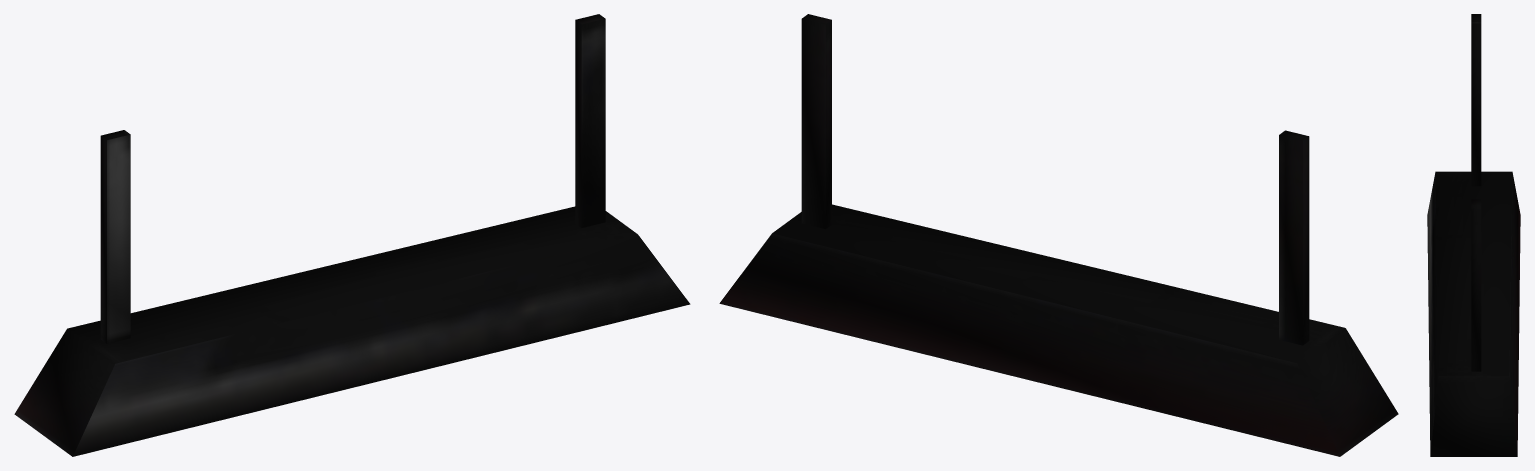
File: ARC0610030.fbx
3 renders of one model, left to right at view 1: azimuth 30°, elevation 25°; view 2: azimuth 150°, elevation 25°; view 3: azimuth 270°, elevation 25°, orthographic. The views are drawn at different scales.
Parts seen in each view (by area): view 1: smARC0610030; view 2: smARC0610030; view 3: smARC0610030.
Boxes of the visible parts, left/top/right/bottom form: smARC0610030: left=14, top=14, right=690, bottom=456; smARC0610030: left=719, top=14, right=1398, bottom=456; smARC0610030: left=1427, top=14, right=1520, bottom=456.
Size of the model in its own units: 313 by 136 by 51.03.
2 materials, 1 textured.
